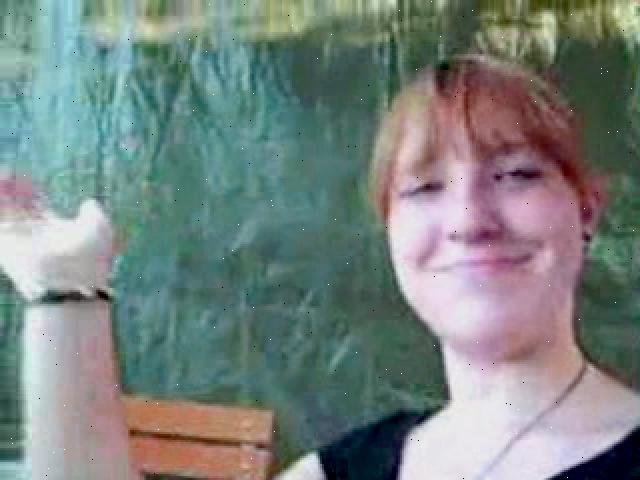T: (6, 46, 634, 467)
